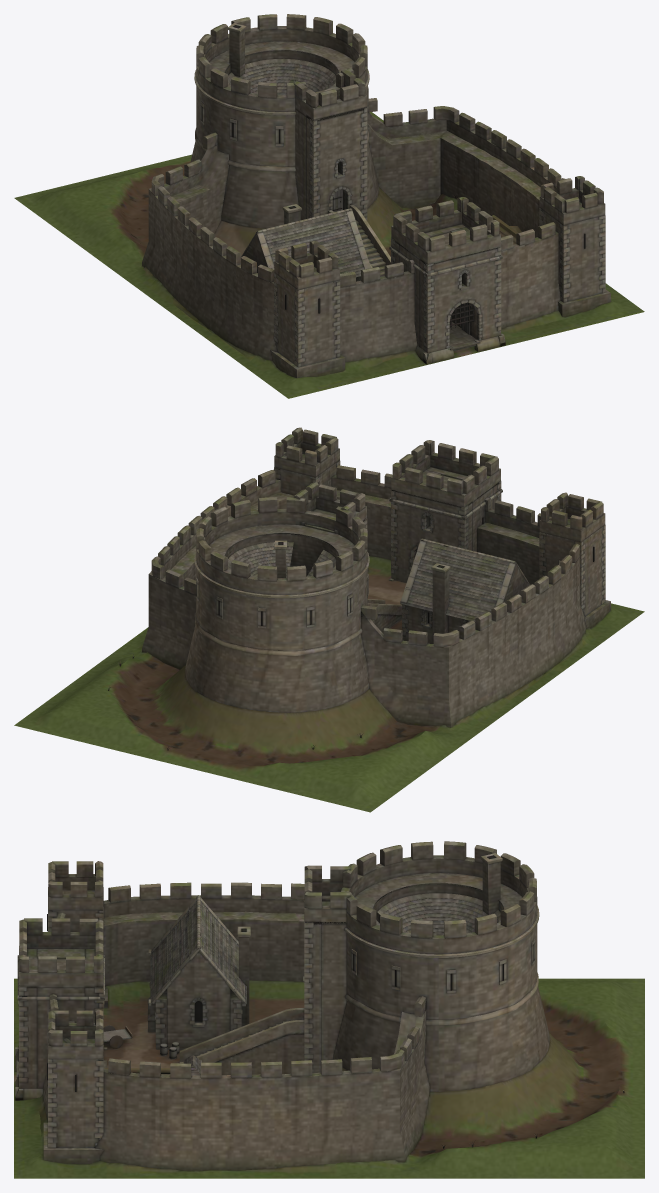
File: shell_keep.glb
3 renders of one model, top to bottom at view 1: azimuth 30°, elevation 25°; view 2: azimuth 150°, elevation 25°; view 3: azimuth 270°, elevation 25°, orthographic. The views are drawn at different scales.
Visible parts, largest first — view 1: shell_keep_LOD0; view 2: shell_keep_LOD0; view 3: shell_keep_LOD0.
Part boxes in pixels (x1,y1,x2,y2): shell_keep_LOD0: (14,14,644,398); shell_keep_LOD0: (14,427,644,812); shell_keep_LOD0: (14,841,644,1178).
Size of what is drawn, in the model's own units: 36 by 17.56 by 48.
Materials: 1 (1 with a texture image).
